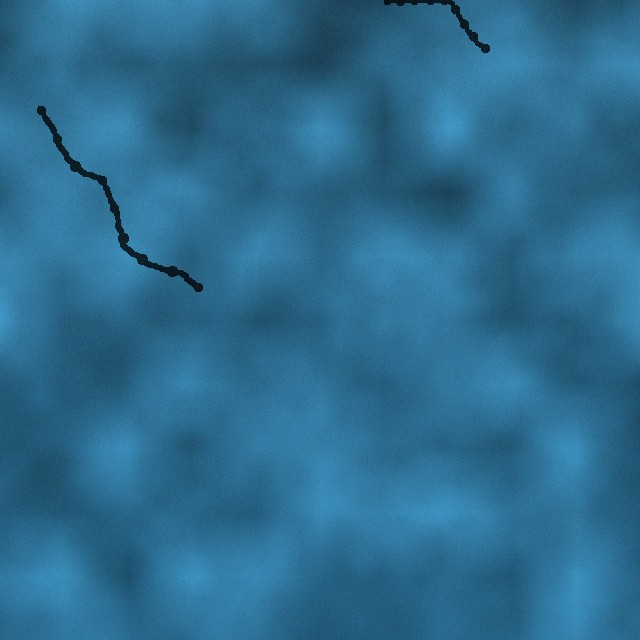crack: (35, 102, 203, 292), (381, 0, 489, 52)
